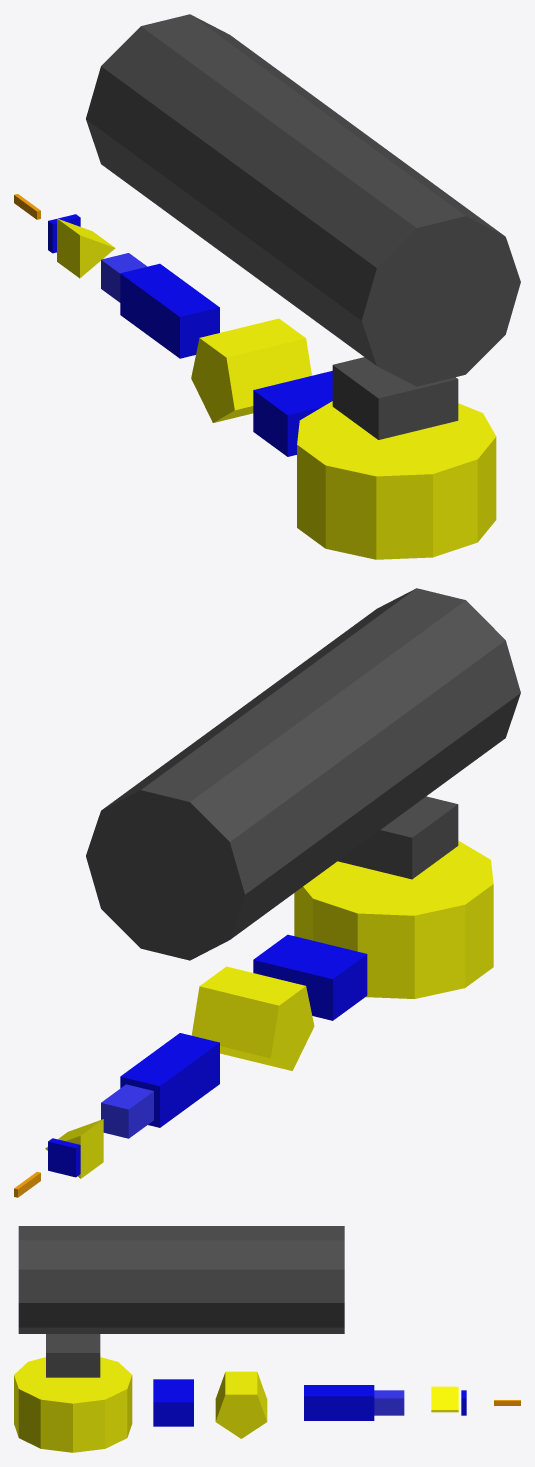
Rendered from test_arm_fixed.dae.
3 views of the same model, one above another, from view 1: azimuth 30°, elevation 25°; view 2: azimuth 150°, elevation 25°; view 3: azimuth 270°, elevation 25° (orthographic). The views are drawn at different scales.
Parts seen in each view (by area): view 1: base_link, base_motor, lift_motor, block_to_base, extend_link1, swivel_link, wrist_motor, extend_link2; view 2: base_link, base_motor, lift_motor, swivel_link, block_to_base, extend_link1, extend_link2, wrist_motor, wrist_plate; view 3: base_link, base_motor, lift_motor, extend_link1, block_to_base, swivel_link, extend_link2, wrist_motor.
Part boxes in pixels (<box>): base_link: <box>86,14,520,386</box>; base_motor: <box>297,401,496,559</box>; lift_motor: <box>191,318,311,422</box>; block_to_base: <box>332,357,458,439</box>; extend_link1: <box>120,263,219,358</box>; swivel_link: <box>253,371,332,456</box>; wrist_motor: <box>57,218,115,278</box>; extend_link2: <box>101,253,146,302</box>; base_link: <box>86,588,520,960</box>; base_motor: <box>294,840,493,998</box>; lift_motor: <box>191,966,314,1070</box>; swivel_link: <box>253,934,367,1020</box>; block_to_base: <box>338,796,458,879</box>; extend_link1: <box>120,1033,219,1127</box>; extend_link2: <box>101,1084,153,1138</box>; wrist_motor: <box>45,1119,103,1178</box>; wrist_plate: <box>48,1138,80,1177</box>; base_link: <box>18,1226,344,1333</box>; base_motor: <box>14,1357,132,1452</box>; lift_motor: <box>215,1371,267,1438</box>; extend_link1: <box>304,1385,374,1420</box>; block_to_base: <box>46,1334,100,1377</box>; swivel_link: <box>153,1379,193,1426</box>; extend_link2: <box>374,1390,404,1415</box>; wrist_motor: <box>431,1386,458,1412</box>.
Size of what is drawn, in the model's own units: 0.2155 by 0.9339 by 0.3951.
